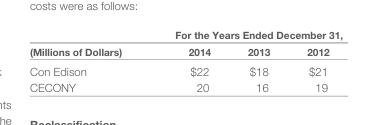table: (28, 28, 342, 93)
table column: (28, 28, 147, 93), (147, 28, 228, 93), (228, 28, 287, 93), (287, 28, 342, 93)
table column header: (28, 28, 342, 60)
table row: (28, 60, 342, 79), (28, 42, 342, 60), (28, 28, 342, 42), (28, 79, 342, 93)
table spanning cell: (28, 28, 147, 60), (147, 28, 342, 42)
